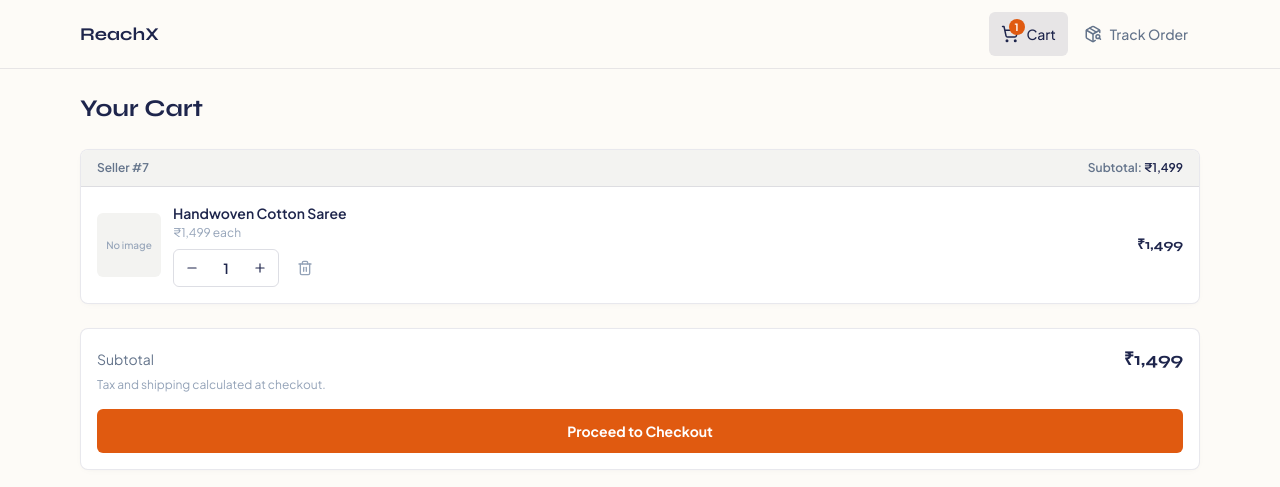
Test: Cart page - real tree, no fetch involved (100% local state) › removes the last item and falls back to the empty state
Check: the text "Handwoven Cotton Saree" is shown, box [173, 204, 347, 222]
Step 1. Click the button named "Remove Handwoven Cotton Saree from cart" → {"x": 305, "y": 268}, box [287, 250, 323, 286]
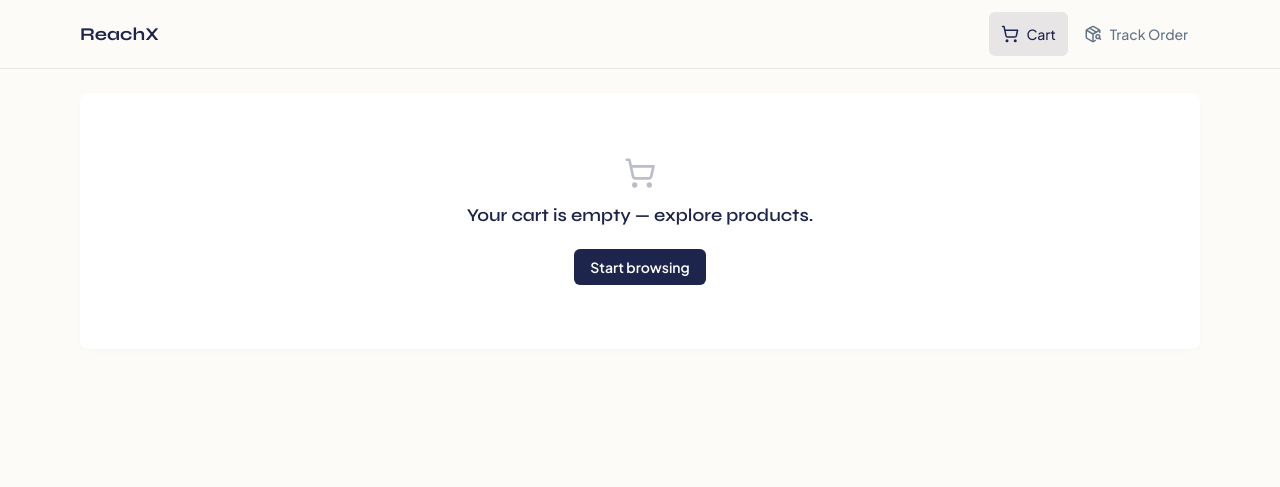
Check: the text "Your cart is empty — explore products." is shown, box [467, 201, 813, 229]
